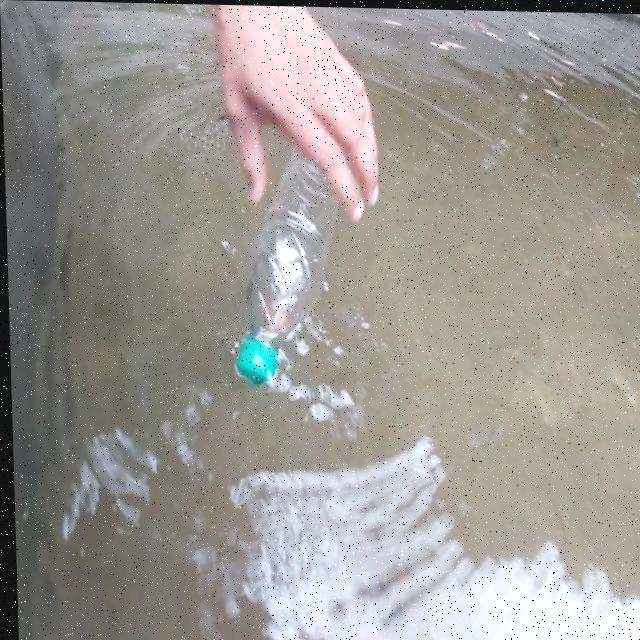waterbottle: (197, 121, 369, 406)
